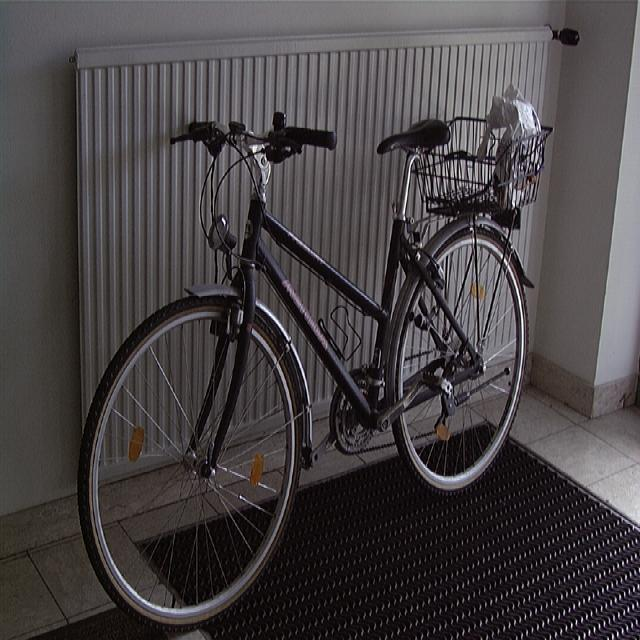bicycle: (76, 109, 538, 627)
